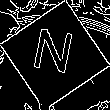N_S: (30, 26, 80, 84)
